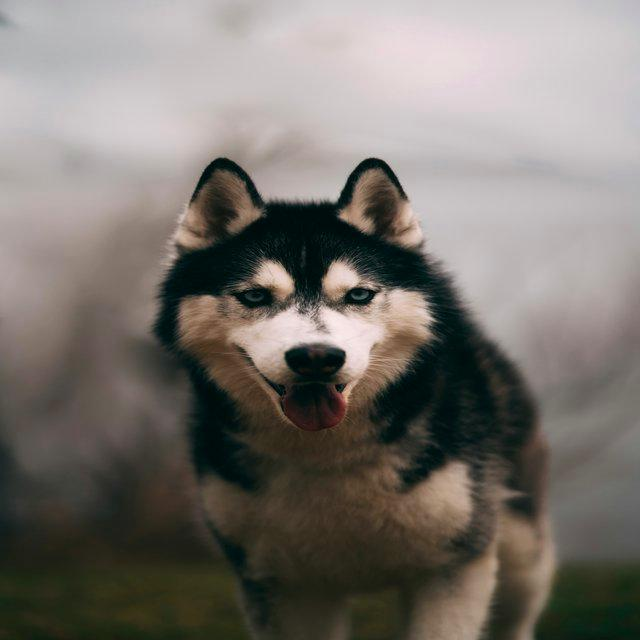husky: (151, 154, 559, 638)
